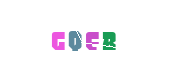B: (69, 0, 149, 80)
E: (45, 0, 125, 80)
G: (33, 0, 113, 80)
Q: (38, 0, 118, 80)
